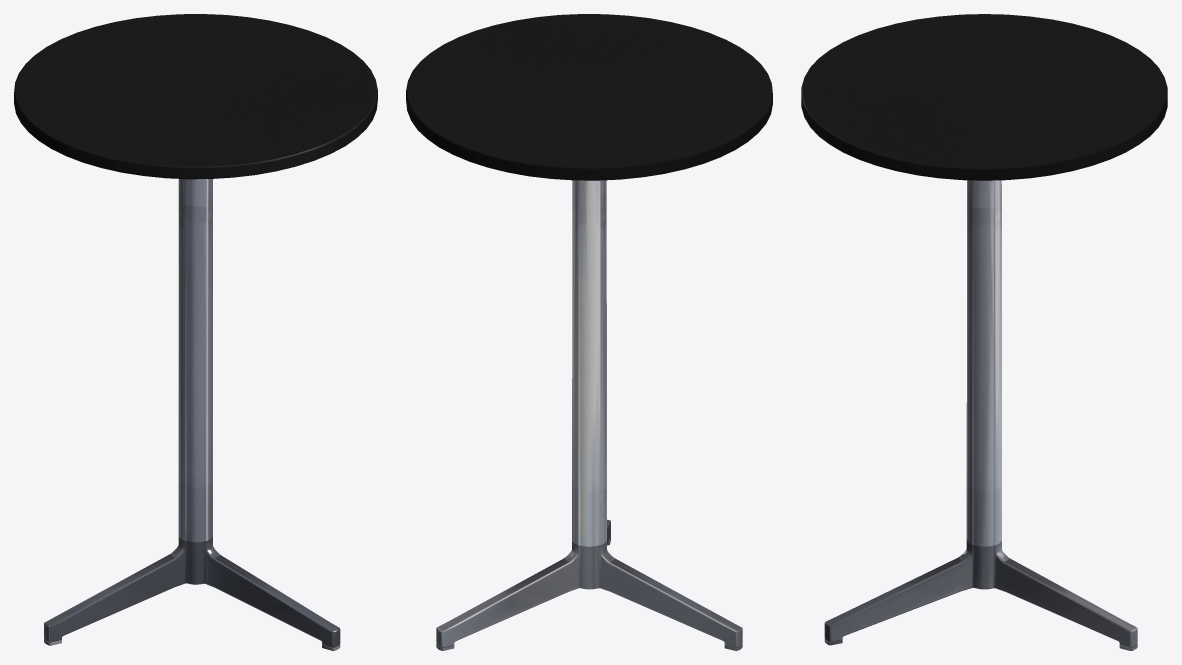
Rendered from delia_110_alu_70_white_aluminium.glb.
3 renders of one model, left to right at view 1: azimuth 30°, elevation 25°; view 2: azimuth 150°, elevation 25°; view 3: azimuth 270°, elevation 25°, orthographic.
Parts seen in each view (by area): view 1: delia_110_alu-black; view 2: delia_110_alu-black; view 3: delia_110_alu-black.
Boxes of the visible parts, x1=… form: delia_110_alu-black: x1=14, y1=14, x2=377, y2=650; delia_110_alu-black: x1=406, y1=14, x2=772, y2=650; delia_110_alu-black: x1=801, y1=14, x2=1167, y2=650.
Bounding box in the file's own units: 0.7018 × 1.1 × 0.7002.
1 material, 1 textured.
